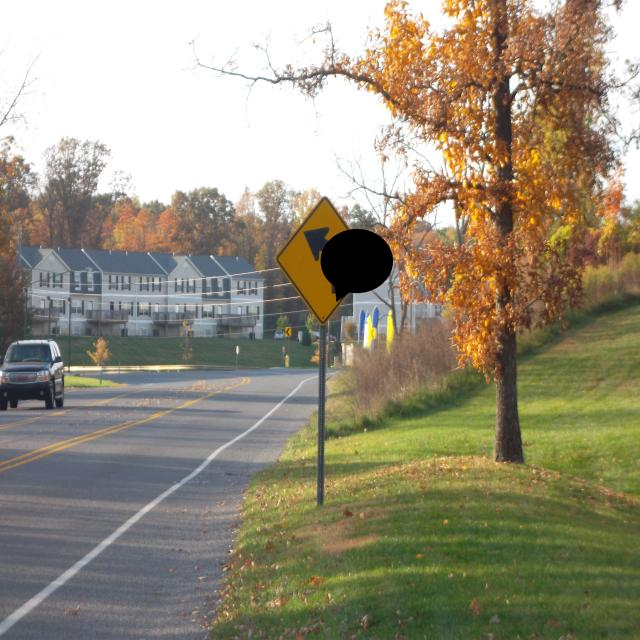warning: (274, 192, 373, 331)
